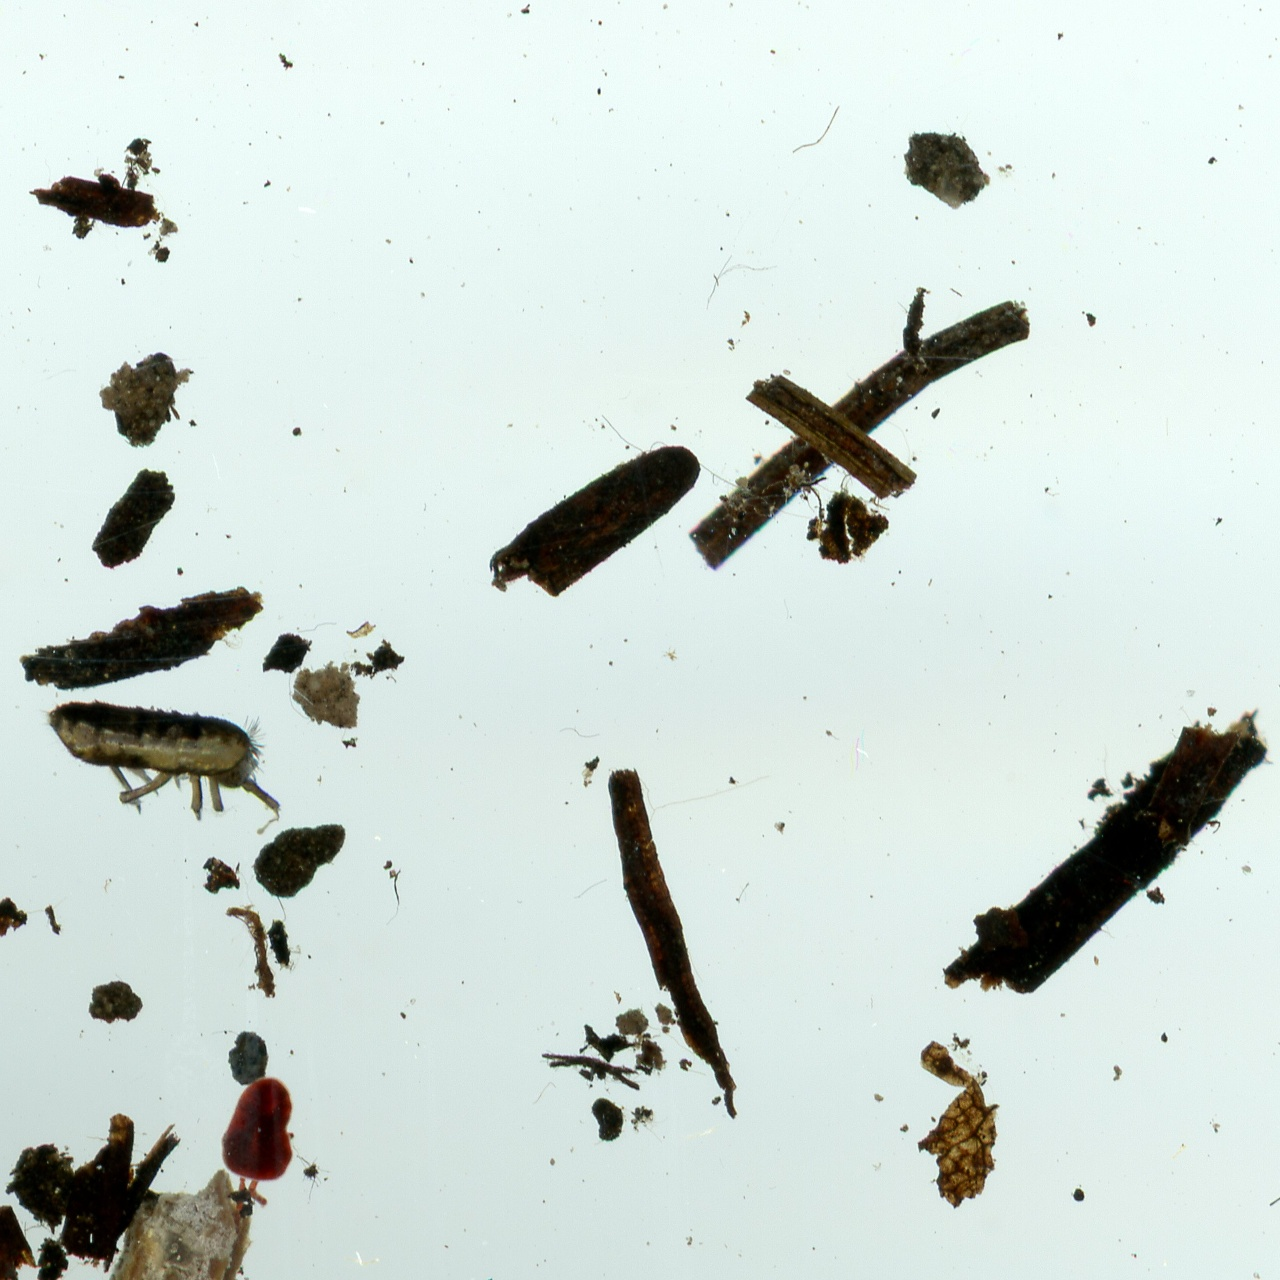arthropod: (30, 693, 285, 837), (217, 1075, 298, 1214)
